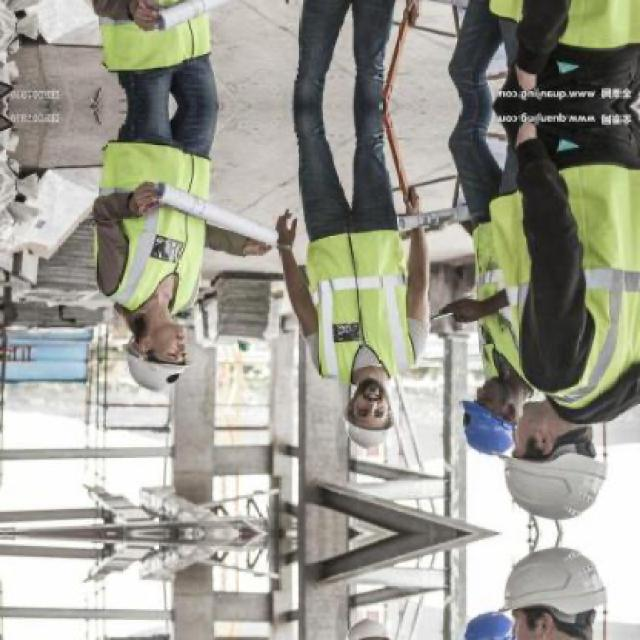con casco: (478, 430, 608, 522), (475, 546, 612, 632), (106, 321, 205, 400), (342, 384, 411, 464), (452, 389, 528, 458)
